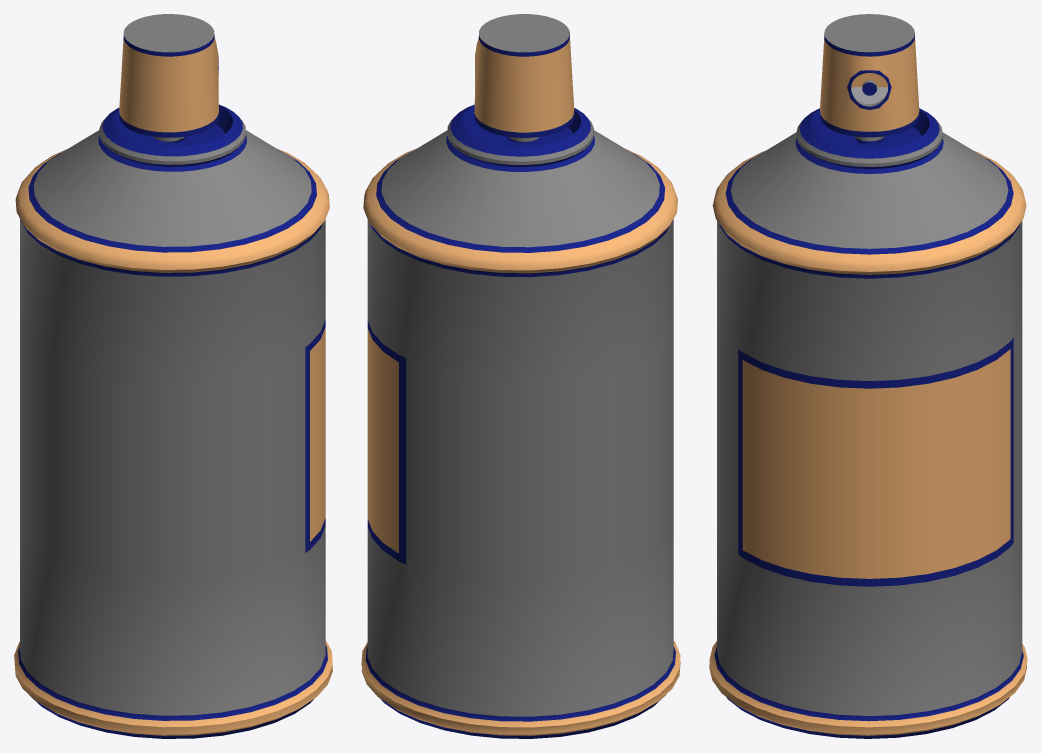
The model's file is colorcan repaired.fbx.
The picture shows the model from 3 angles, left to right: view 1: azimuth 30°, elevation 25°; view 2: azimuth 150°, elevation 25°; view 3: azimuth 270°, elevation 25°; orthographic projection.
Parts seen in each view (by area): view 1: Circle; view 2: Circle; view 3: Circle.
Part boxes in pixels (bbox=[...]): Circle: bbox=[14, 14, 332, 738]; Circle: bbox=[361, 14, 680, 738]; Circle: bbox=[709, 14, 1027, 738].
Size of the model in its own units: 210 by 465 by 210.
